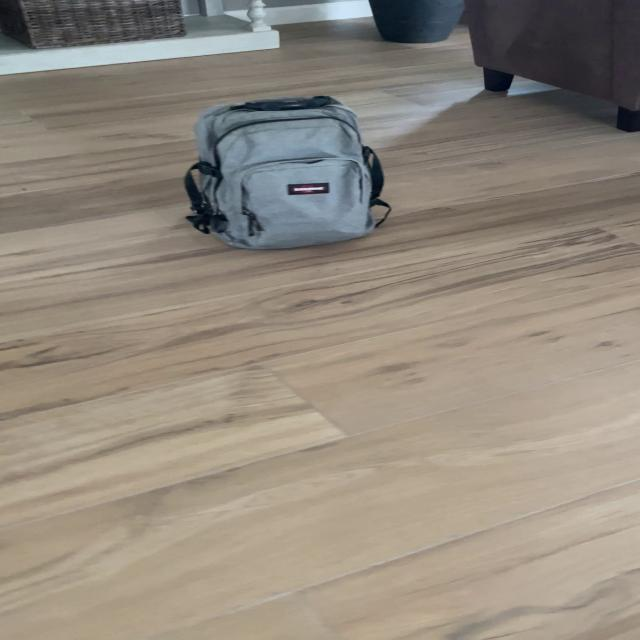backpack: (170, 86, 397, 259)
